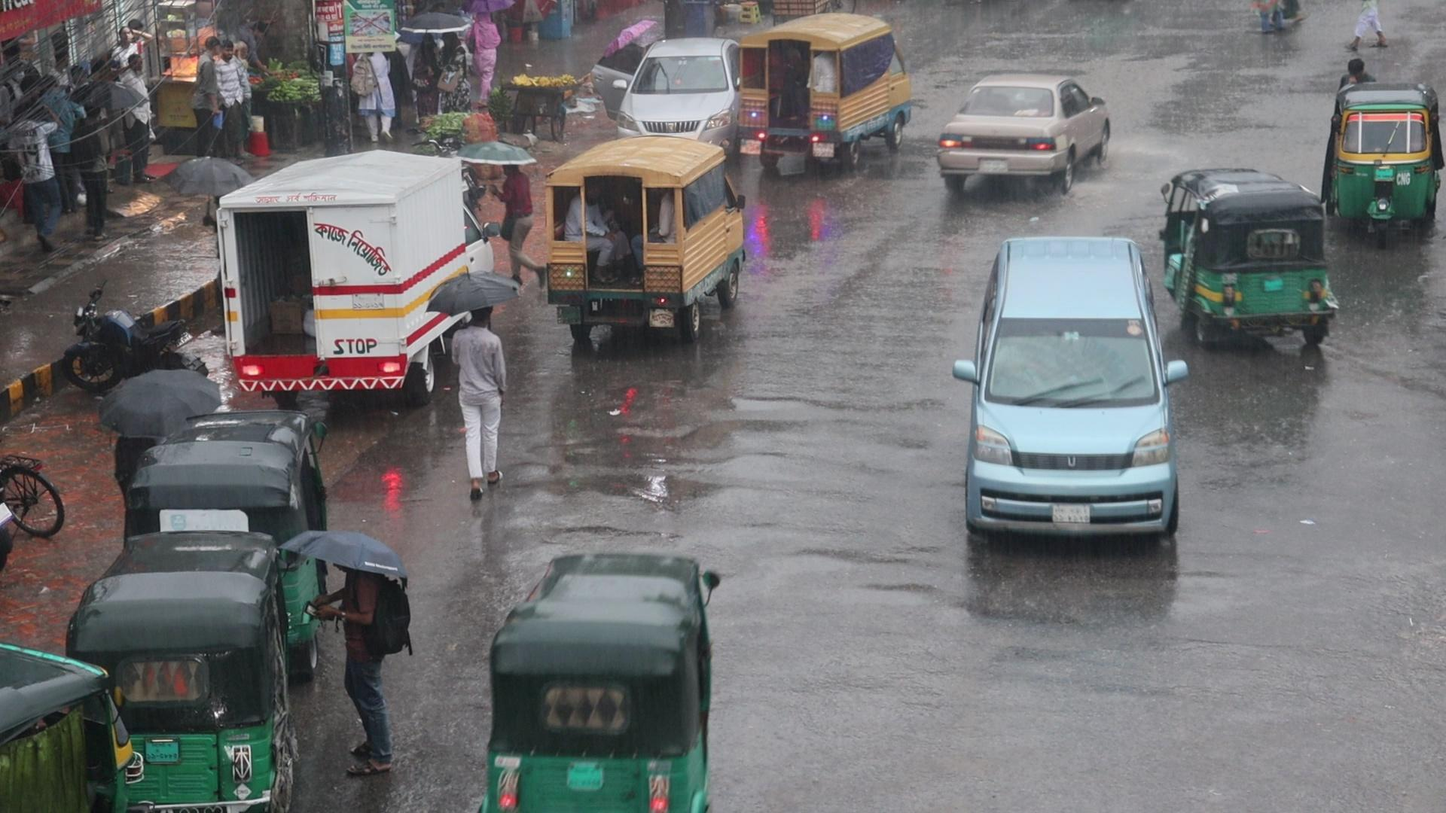Car: (960, 229, 1177, 553), (921, 65, 1112, 201), (619, 29, 748, 145)
Truck: (533, 134, 744, 353), (736, 8, 923, 167)
